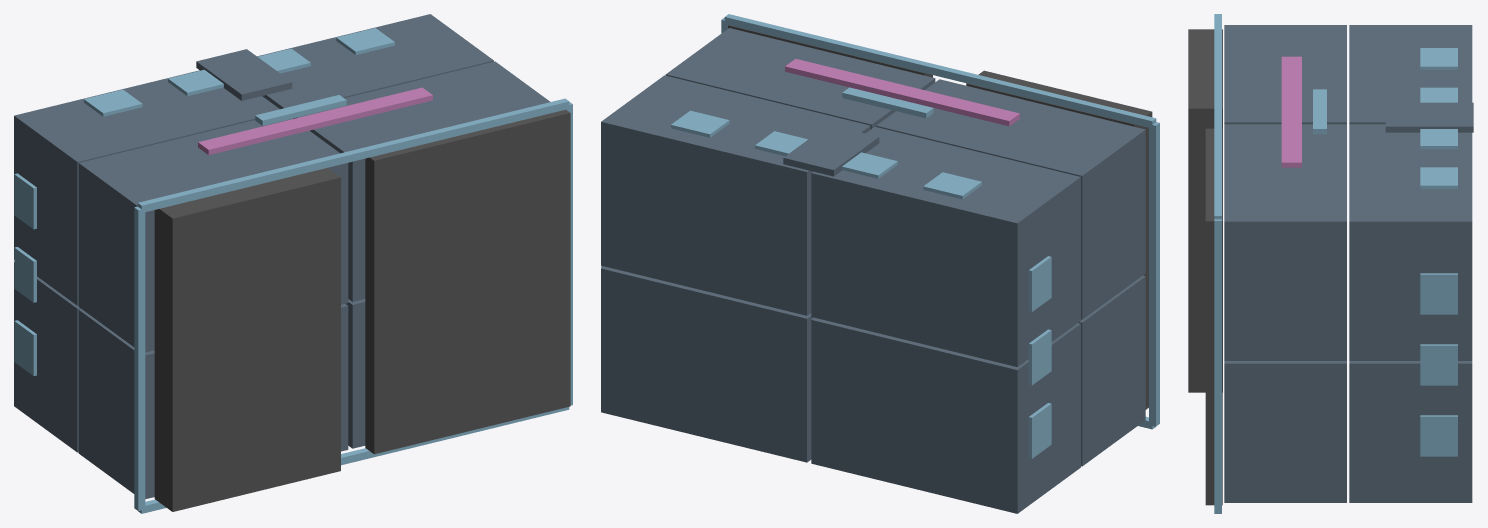
Rendered from building-internet-cafe.glb.
3 renders of one model, left to right at view 1: azimuth 30°, elevation 25°; view 2: azimuth 150°, elevation 25°; view 3: azimuth 270°, elevation 25°, orthographic. The views are drawn at different scales.
Visible parts, largest first — view 1: world; view 2: world; view 3: world.
Part boxes in pixels (left/top/right/bottom): world: left=14, top=14, right=572, bottom=513; world: left=601, top=14, right=1159, bottom=513; world: left=1188, top=14, right=1473, bottom=513.
Bounding box in the file's own units: 15.5 × 10.7 × 9.1.
